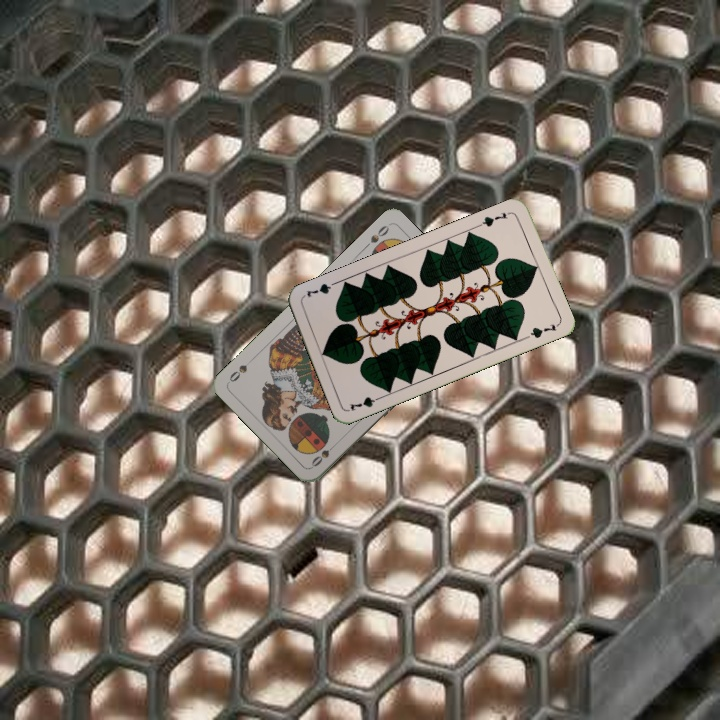G7: (345, 392, 385, 413), (475, 208, 514, 229)
SO: (307, 438, 340, 469), (359, 221, 392, 252)
